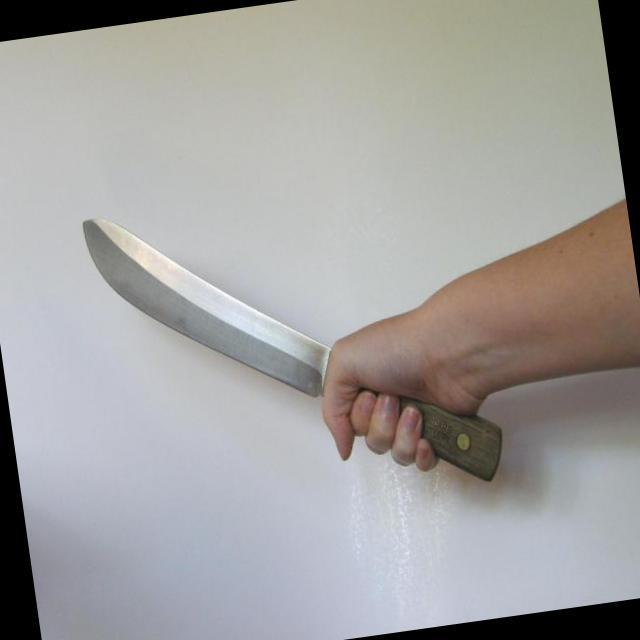Knife: (50, 156, 425, 508)
